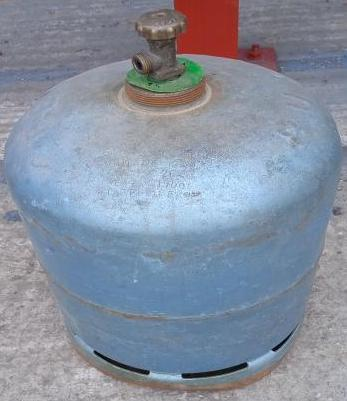cylinder: (1, 1, 347, 401)
